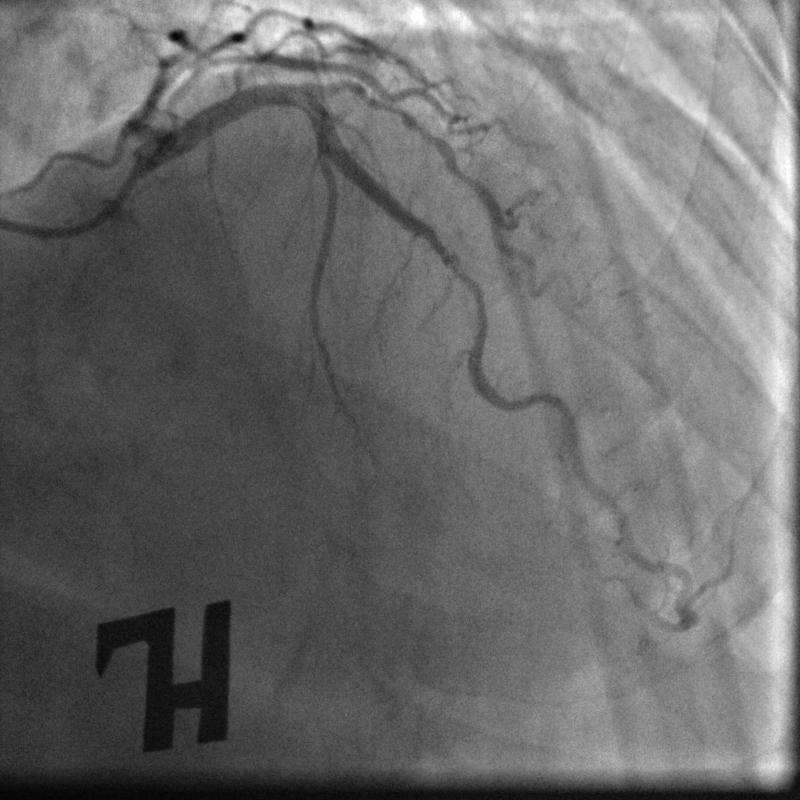Stenosis: (445, 257, 489, 344)
